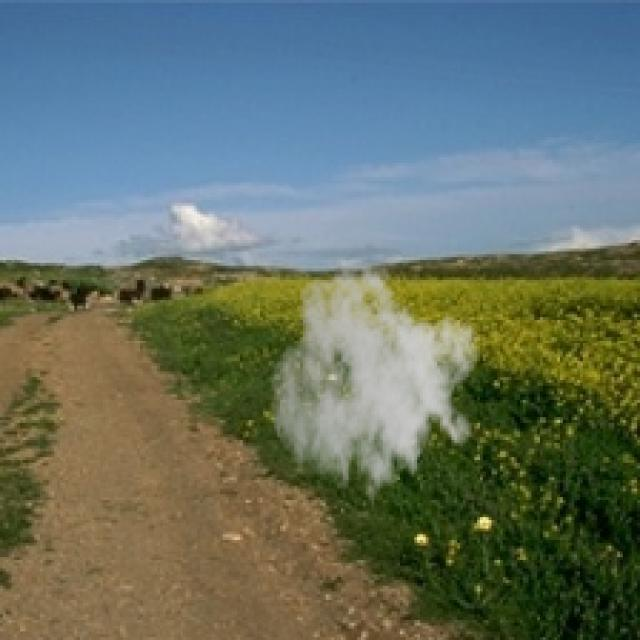Smoke: (268, 255, 481, 520)
